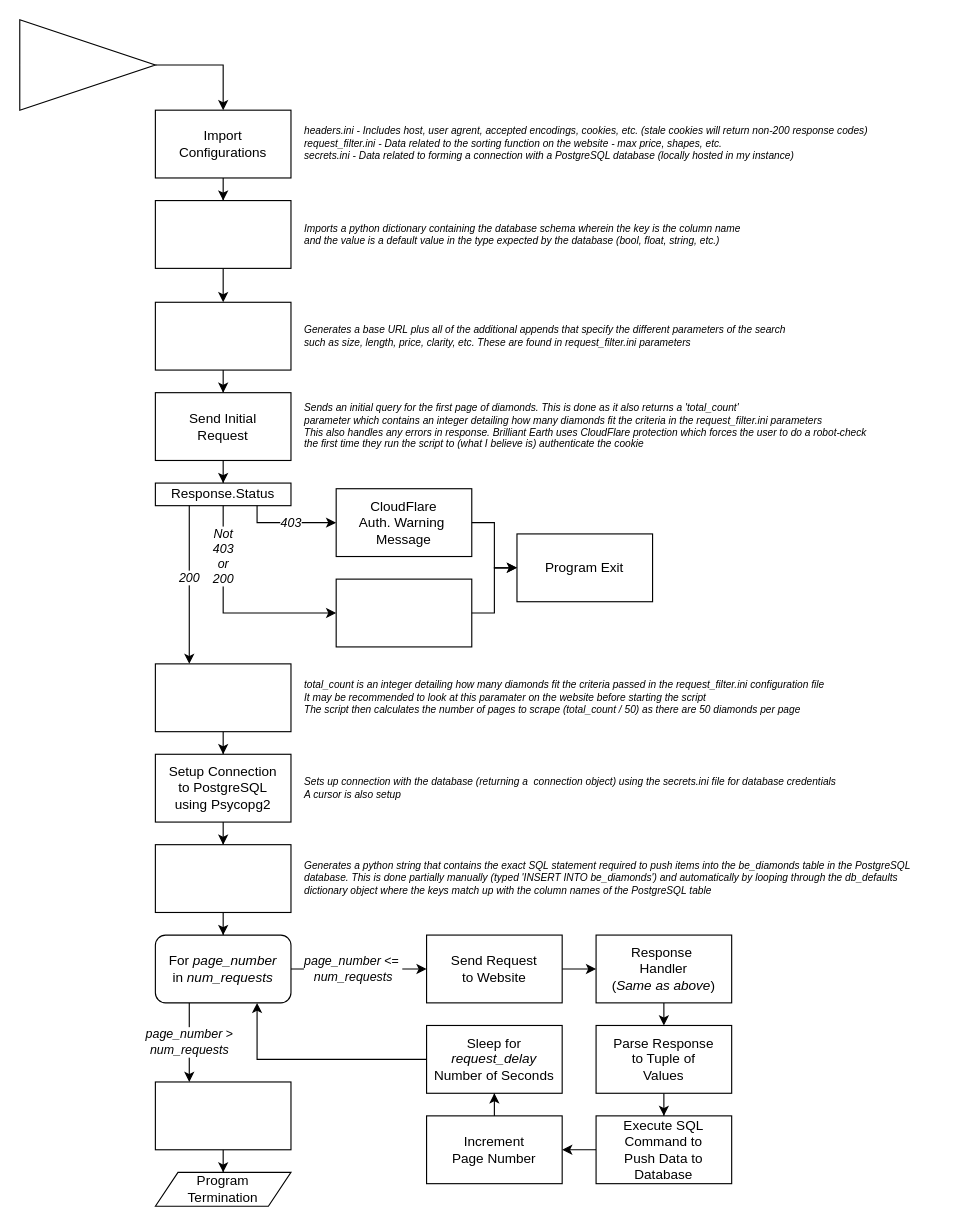
This 955x1226 diagram has some shape labels left out. Here are the shapes that lost their labels. From the top down, the centre of each, then its label:
At point 87,64: "Progam Start".
At point 222,233: "Import Database Table Schema & Default Values".
At point 222,335: "Generate Base Request URL".
At point 403,612: "Unparsable Response Message".
At point 222,697: "Take total_count parameter & perform calculations".
At point 222,878: "Generate SQL Command".
At point 222,1115: "Close Connection to Database".
